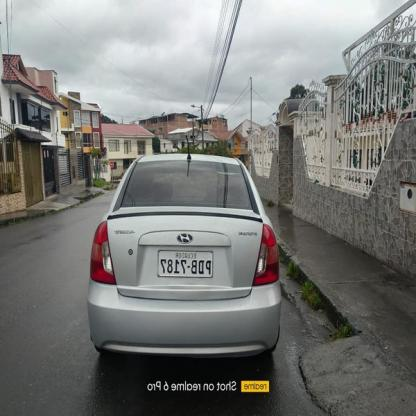Placa: (155, 249, 215, 278)
